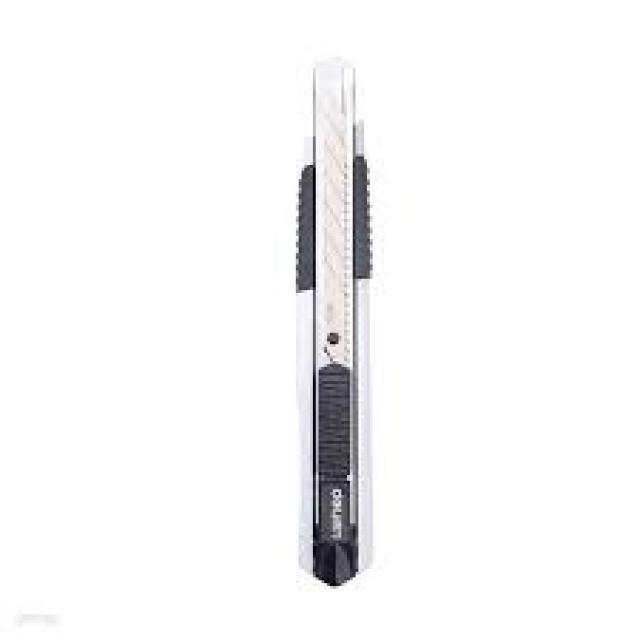cutter: (276, 46, 388, 594)
